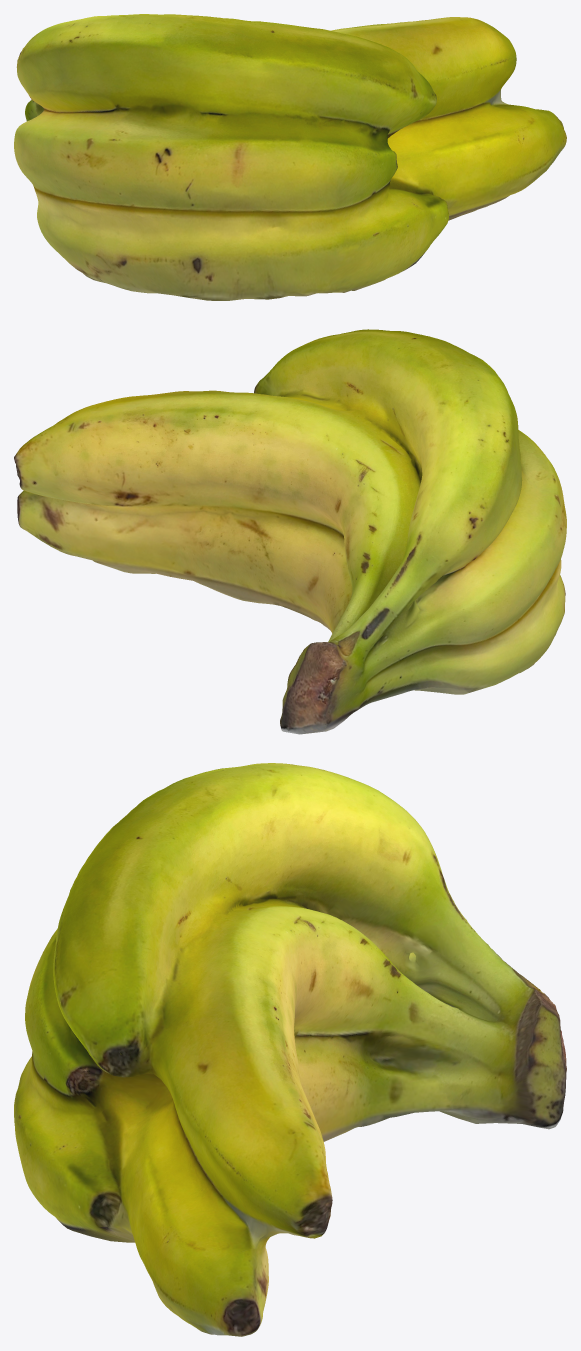
File: bananas.glb
3 renders of one model, top to bottom at view 1: azimuth 30°, elevation 25°; view 2: azimuth 150°, elevation 25°; view 3: azimuth 270°, elevation 25°, orthographic. The views are drawn at different scales.
Parts seen in each view (by area): view 1: Object_4; view 2: Object_4; view 3: Object_4.
Boxes of the visible parts, x1,y1,x2,y2 form: Object_4: (14,14,566,300); Object_4: (14,329,566,734); Object_4: (14,763,566,1336).
Bounding box in the file's own units: 0.2099 × 0.1023 × 0.1507.
Materials: 1 (1 with a texture image).
